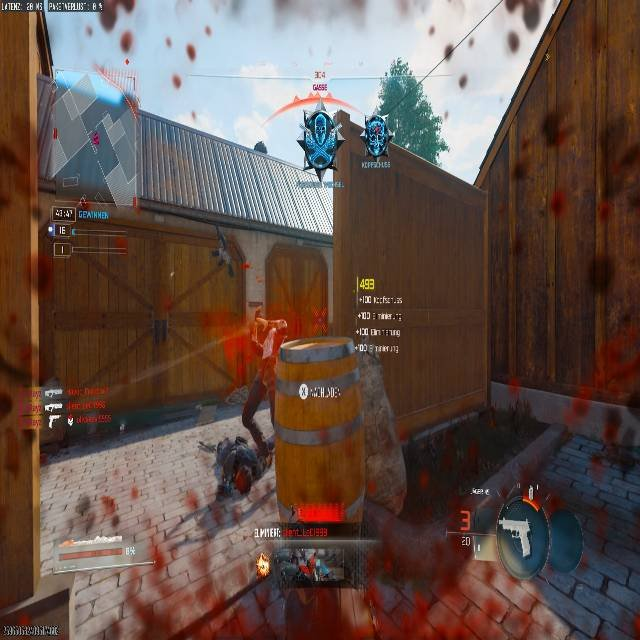player: (252, 140, 267, 154)
